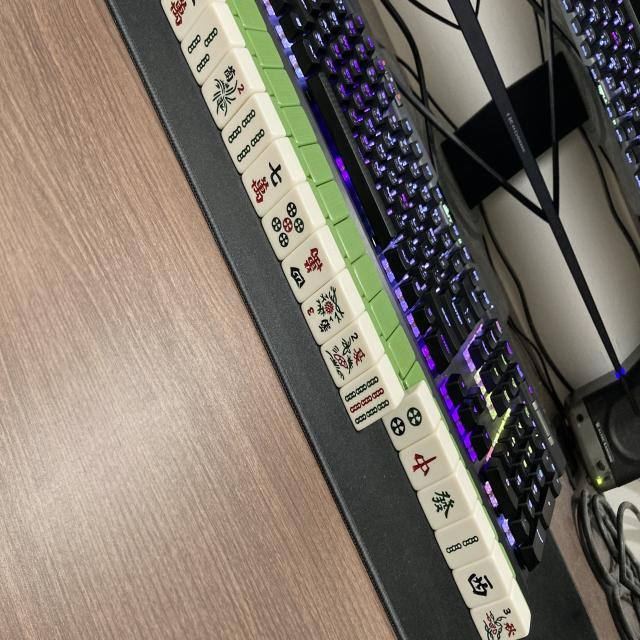2B: (436, 516, 491, 570)
2D: (379, 392, 436, 453)
2F: (198, 54, 251, 130)
2S: (320, 324, 378, 387)
3B: (179, 9, 233, 84)
3F: (300, 280, 356, 346)
3S: (472, 600, 528, 640)
4B: (218, 100, 275, 173)
4C: (280, 234, 340, 305)
5D: (260, 189, 317, 261)
7C: (240, 145, 295, 217)
9B: (340, 370, 396, 431)
GD: (419, 476, 475, 530)
RD: (399, 434, 455, 491)
WW: (454, 560, 510, 612)
